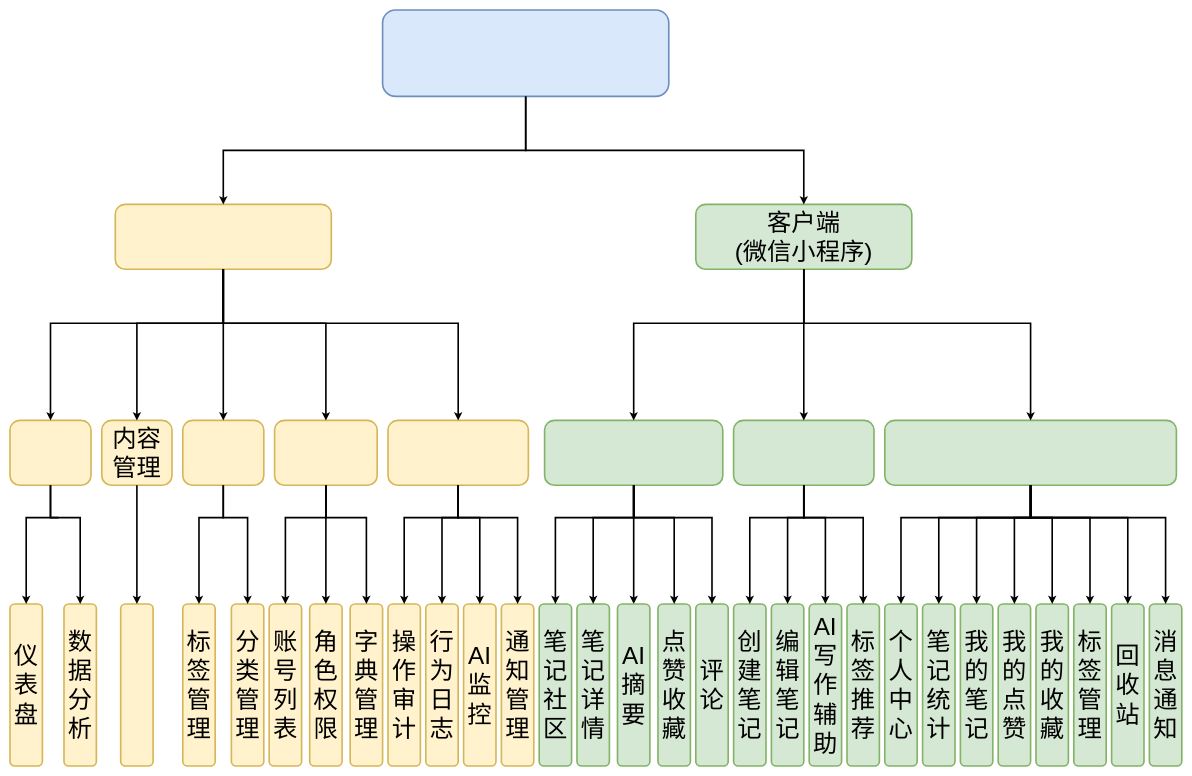
The diagram is 1192 pixels wide and 776 high, and some of its shapes have lost their labels. The shapes that lost their labels are listed below. From the top down, each one's centre as x and y in pixels, then its label:
(525,53): 个人知识管理与 智能笔记系统
(223,236): 管理端 (Web管理后台)
(50,452): 工作台
(223,452): 分类维护
(326,452): 系统管理
(458,452): 系统监控
(633,452): 社区
(804,452): 创作
(1030,452): 我的
(137,685): 笔 记 列 表
